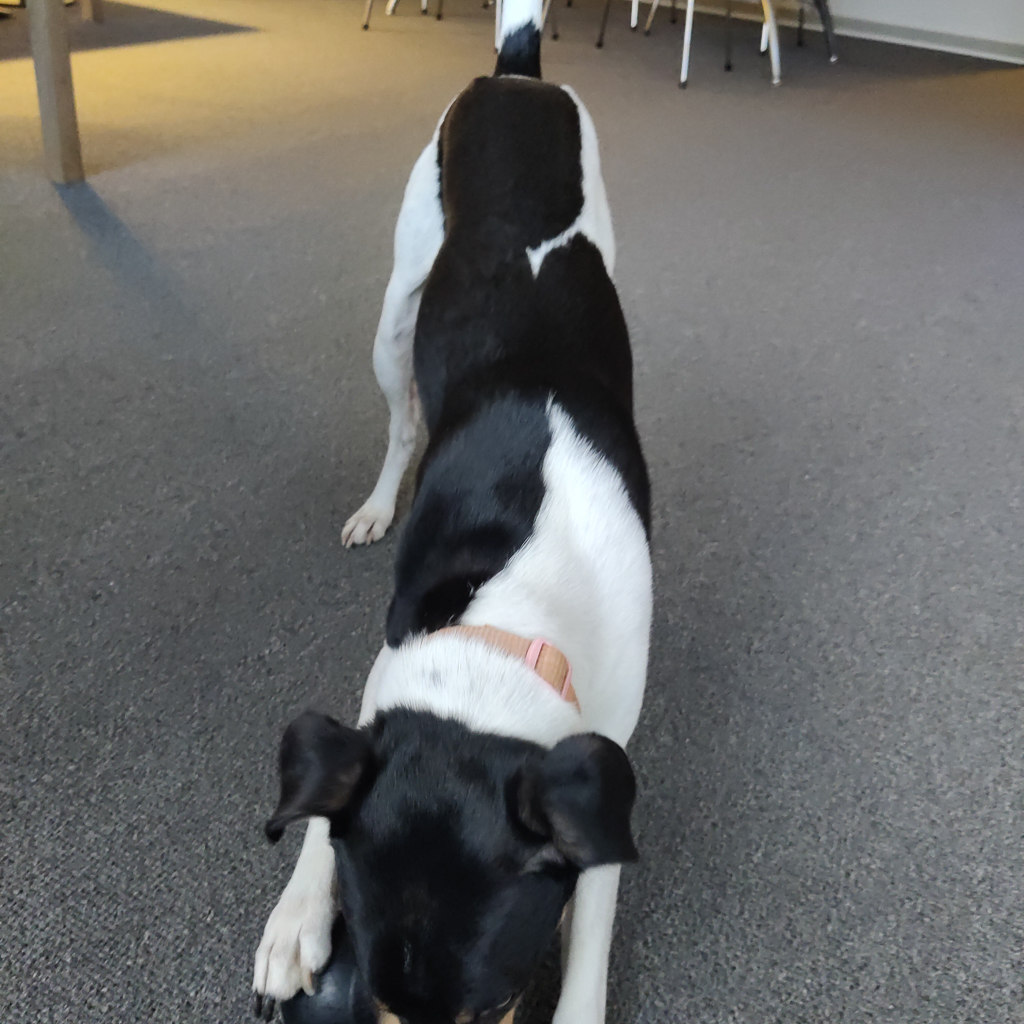Dog: (195, 0, 679, 1024)
